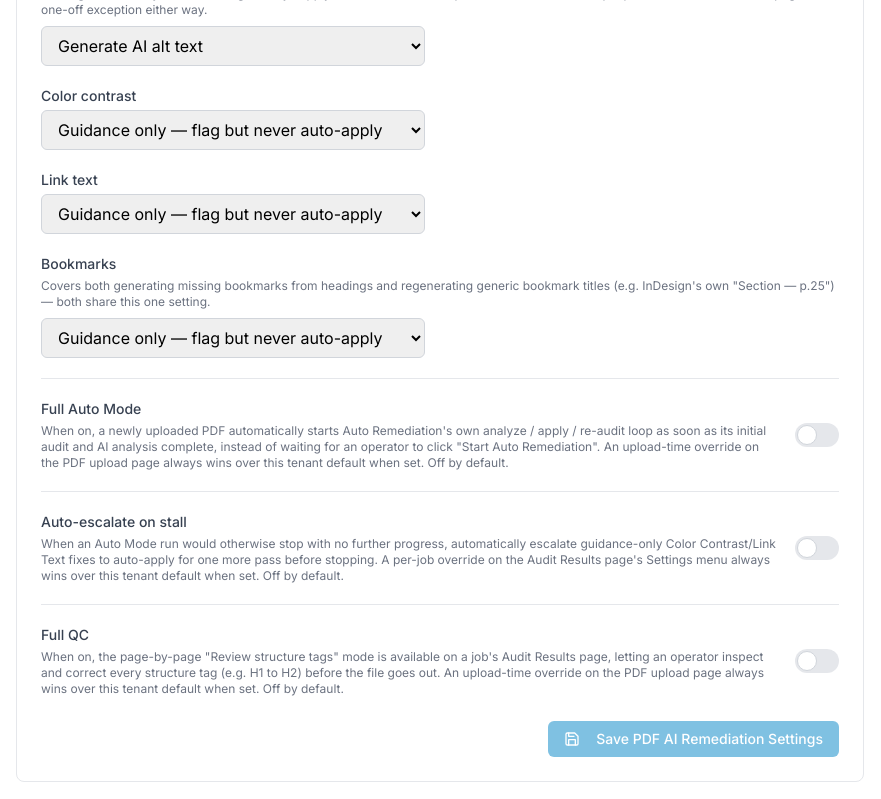
it: TenantWorkflowSettings — PDF AI Remediation tenant defaults › enables the Save button when only the Full QC toggle differs from the saved value
The width and height of the screenshot is (881, 799).
(page scrolled)
Expected: the button "Save PDF AI Remediation Settings" is disabled, 548,721 -> 839,757
Click the checkbox named "Full QC" at (817, 661), box 795,649 -> 839,673
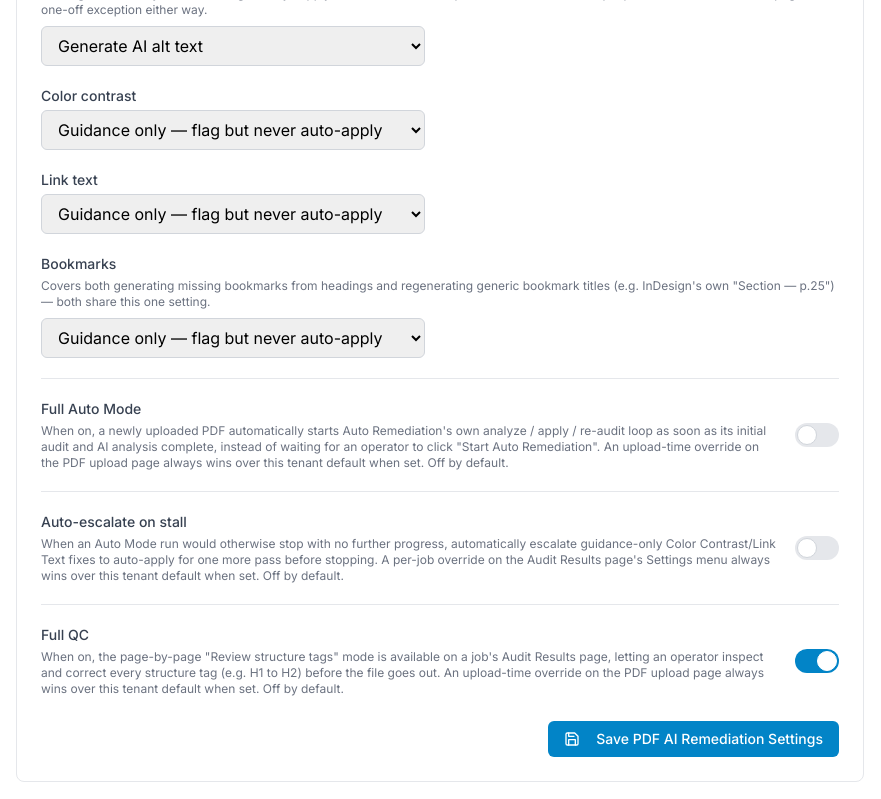
Result: the button "Save PDF AI Remediation Settings" is enabled at 548,721 -> 839,757
